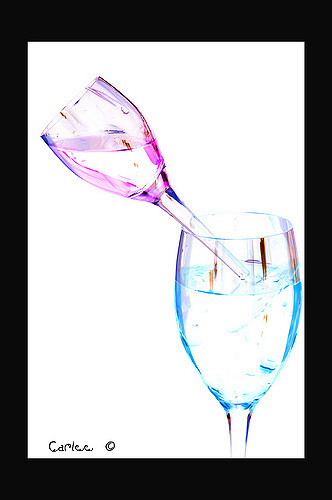glass of water: (172, 196, 286, 458)
